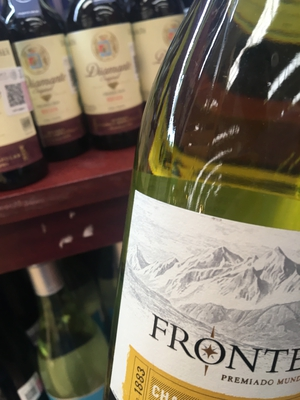frontera chardonnay: (84, 18, 297, 400)
